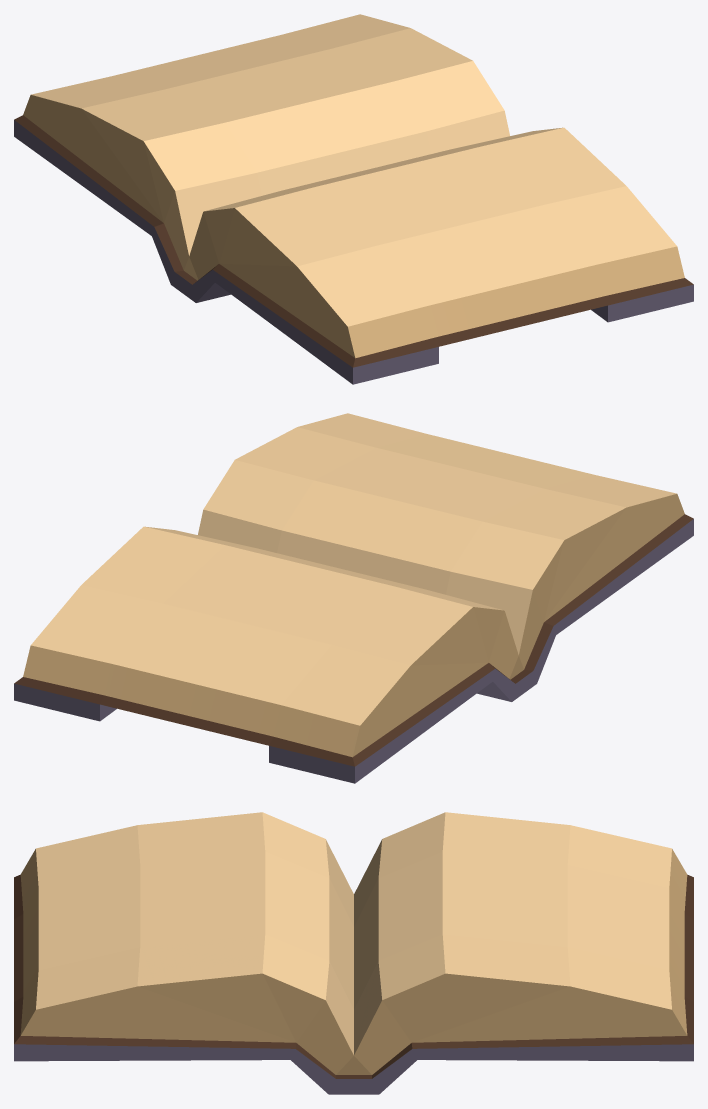
The model's file is OpenBook4.FBX.
The picture shows the model from 3 angles, top to bottom: view 1: azimuth 30°, elevation 25°; view 2: azimuth 150°, elevation 25°; view 3: azimuth 270°, elevation 25°; orthographic projection.
Parts seen in each view (by area): view 1: OpenBook4; view 2: OpenBook4; view 3: OpenBook4.
Boxes of the visible parts, x1,y1,x2,y2 form: OpenBook4: [14, 14, 693, 384]; OpenBook4: [14, 413, 693, 783]; OpenBook4: [14, 812, 693, 1094].
Size of the model in its own units: 0.4206 by 0.1391 by 0.7241.
